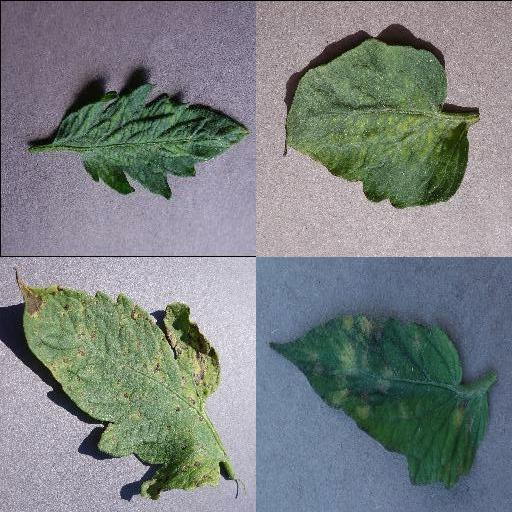Leaf Mold: (266, 312, 490, 485)
Mosaic Virus: (53, 82, 251, 201)
Septoria: (22, 284, 220, 498)
Spider Mites: (284, 35, 468, 207)
